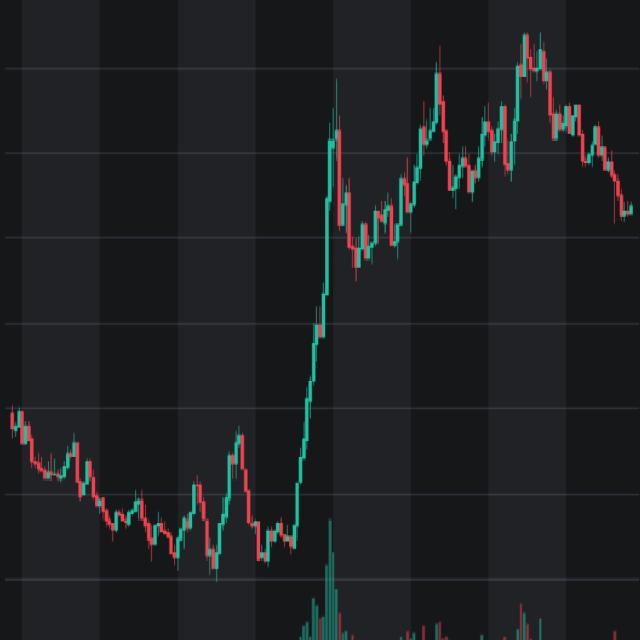Double-Bottom: (238, 429, 309, 571)
Resistance-breakout: (220, 102, 340, 579)
